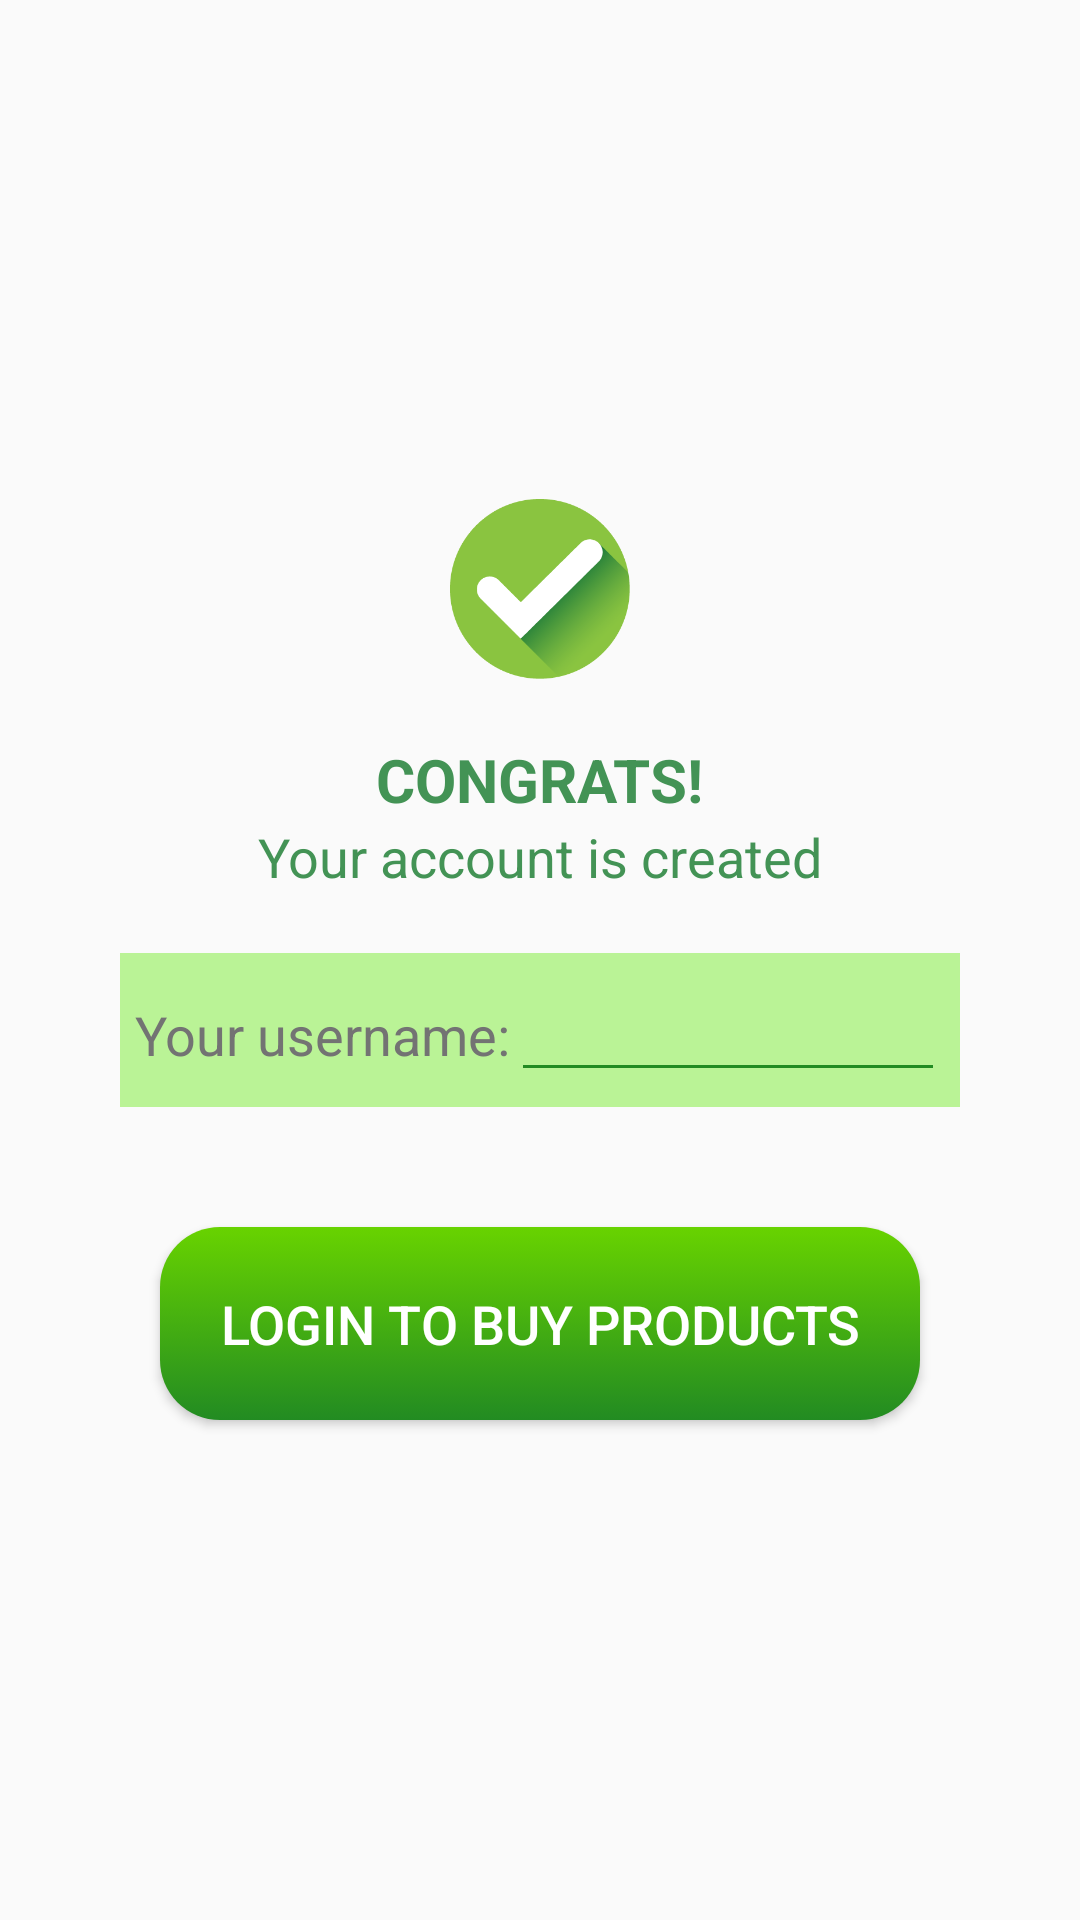

Icons on this 1080 x 1920 Android screen, each with the point to tap as point (x, y):
check mark: point (540, 589)
